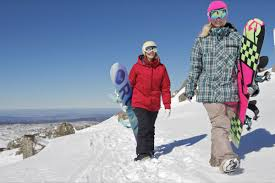snowboard: (228, 17, 265, 150), (107, 62, 140, 140)
